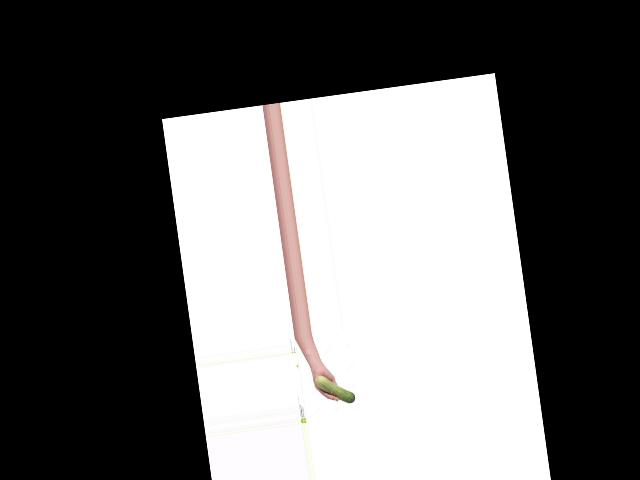cucumber: (314, 371, 355, 406)
